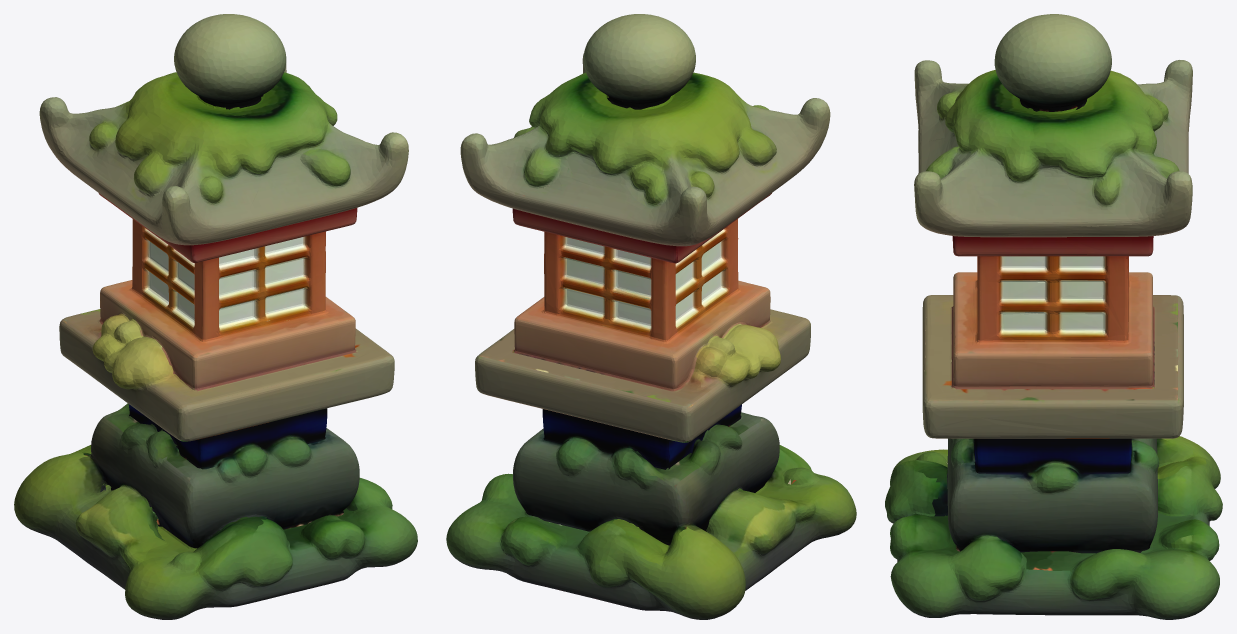
Rendered from stone_garden_lantern_inazuma.glb.
The picture shows the model from 3 angles, left to right: view 1: azimuth 30°, elevation 25°; view 2: azimuth 150°, elevation 25°; view 3: azimuth 270°, elevation 25°; orthographic projection. The views are drawn at different scales.
Parts seen in each view (by area): view 1: tmpa935g3ld.ply; view 2: tmpa935g3ld.ply; view 3: tmpa935g3ld.ply.
Boxes of the visible parts, box(x1,y1,x2,y2) form: tmpa935g3ld.ply: box(14, 14, 417, 619); tmpa935g3ld.ply: box(446, 14, 856, 619); tmpa935g3ld.ply: box(885, 14, 1222, 619).
Bounding box in the file's own units: 1.17 × 1.99 × 1.13.
1 material, 1 textured.
